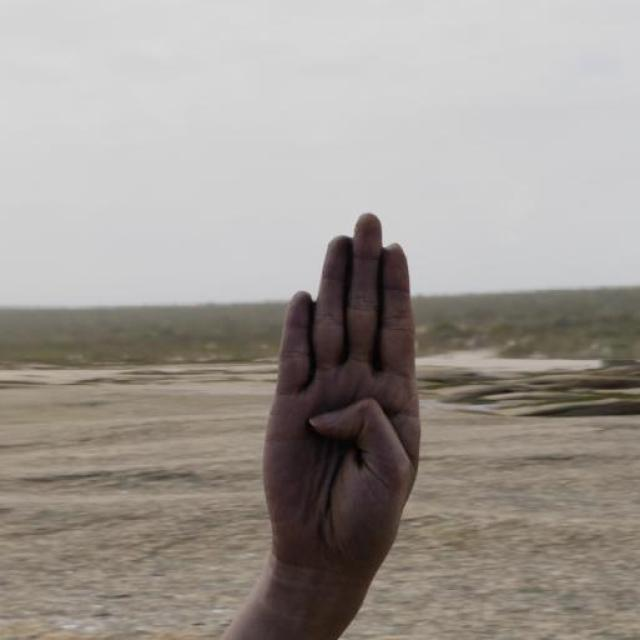B: (252, 208, 435, 576)
